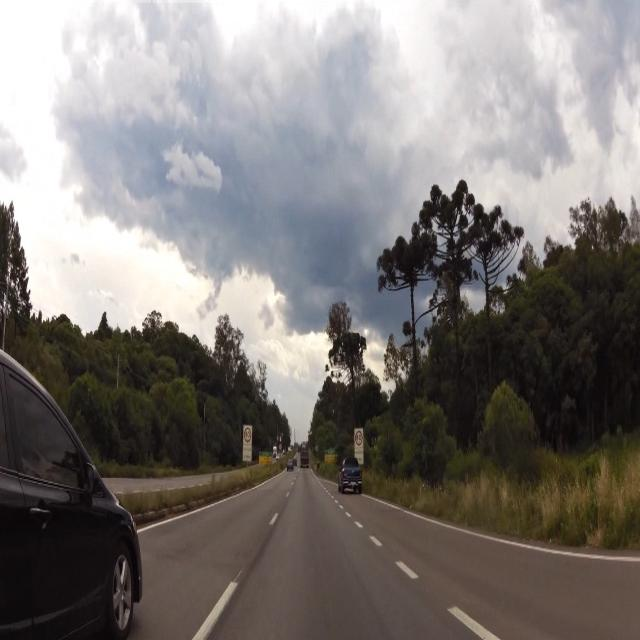R-19: (354, 430, 363, 447), (244, 427, 251, 443)
